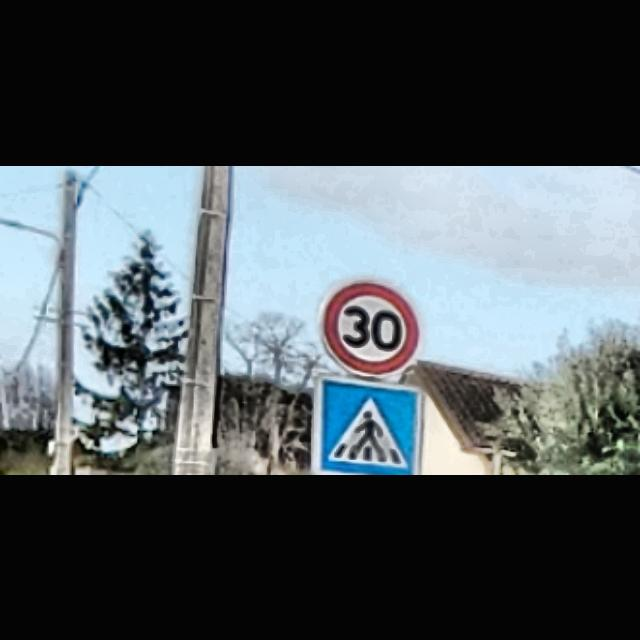speed_30: (323, 279, 423, 376)
